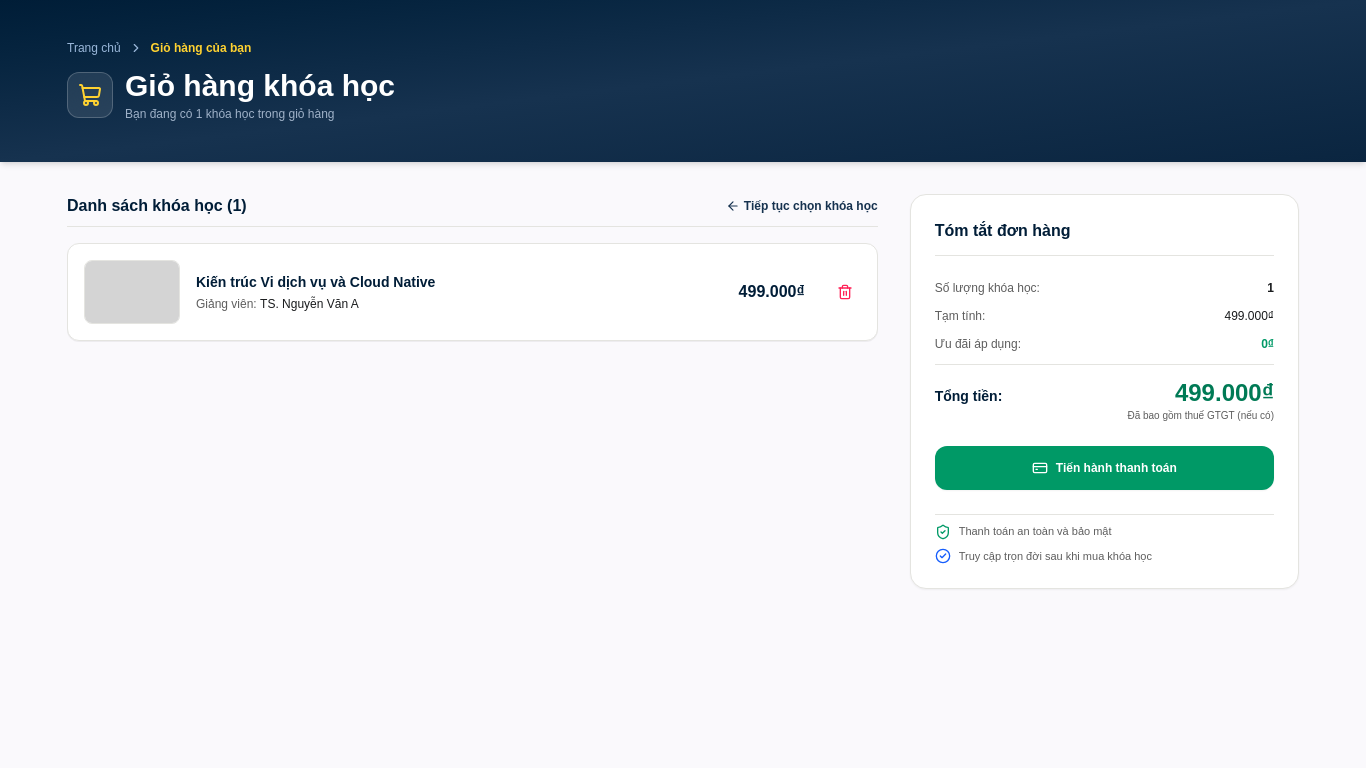
it: CartPage Component with MSW and React Query › xóa khóa học khỏi giỏ hàng khi bấm nút thùng rác
Check: the link "Kiến trúc Vi dịch vụ và Cloud Native" is shown, box [196,272,435,292]
Click the button titled "Xóa khỏi giỏ hàng": (845, 292) [829,276,861,308]
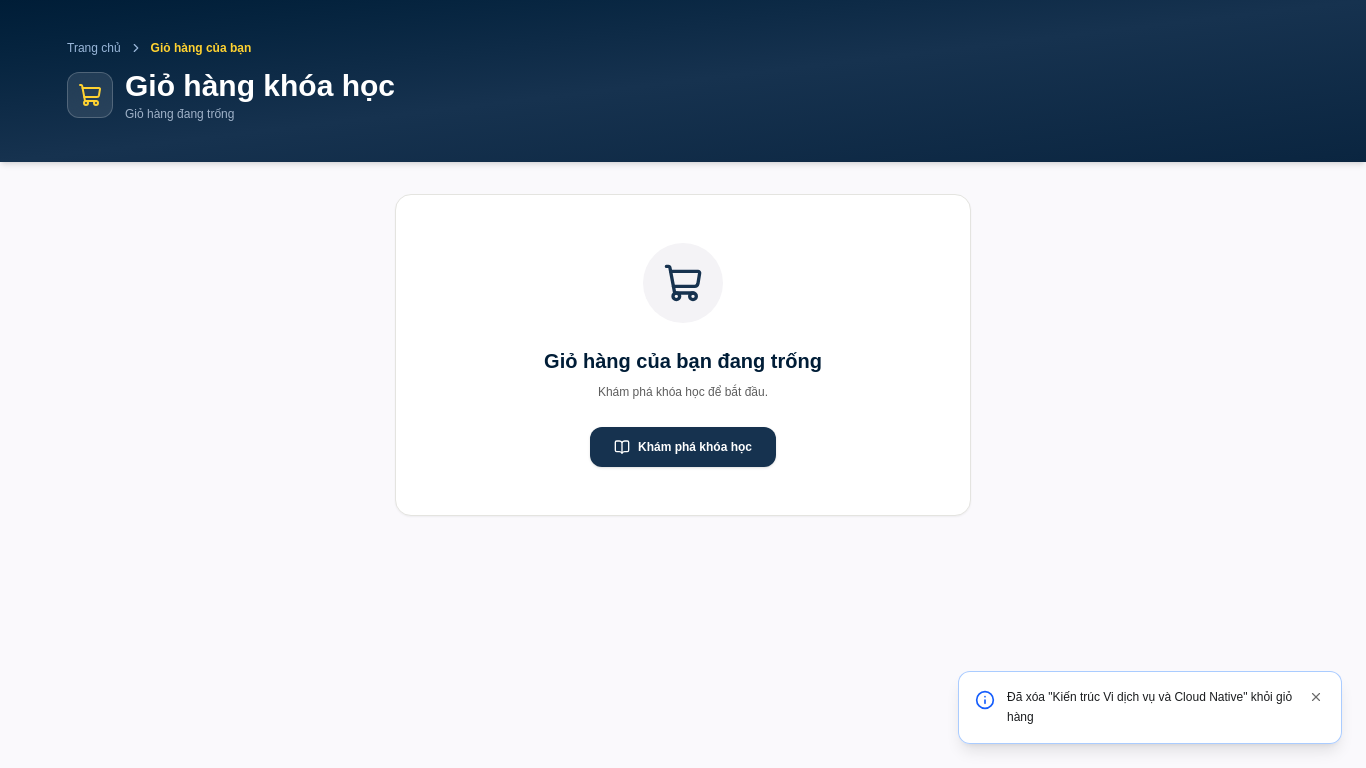
Check: the heading "Giỏ hàng của bạn đang trống" is shown, box [544,350,822,372]
